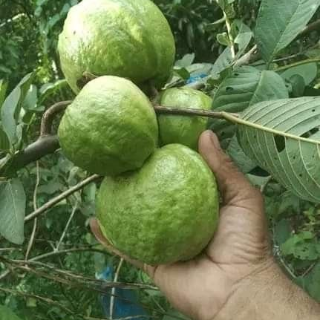oi: (98, 141, 220, 266), (57, 76, 160, 175)
